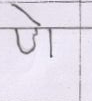e_matra: (12, 4, 44, 26)
